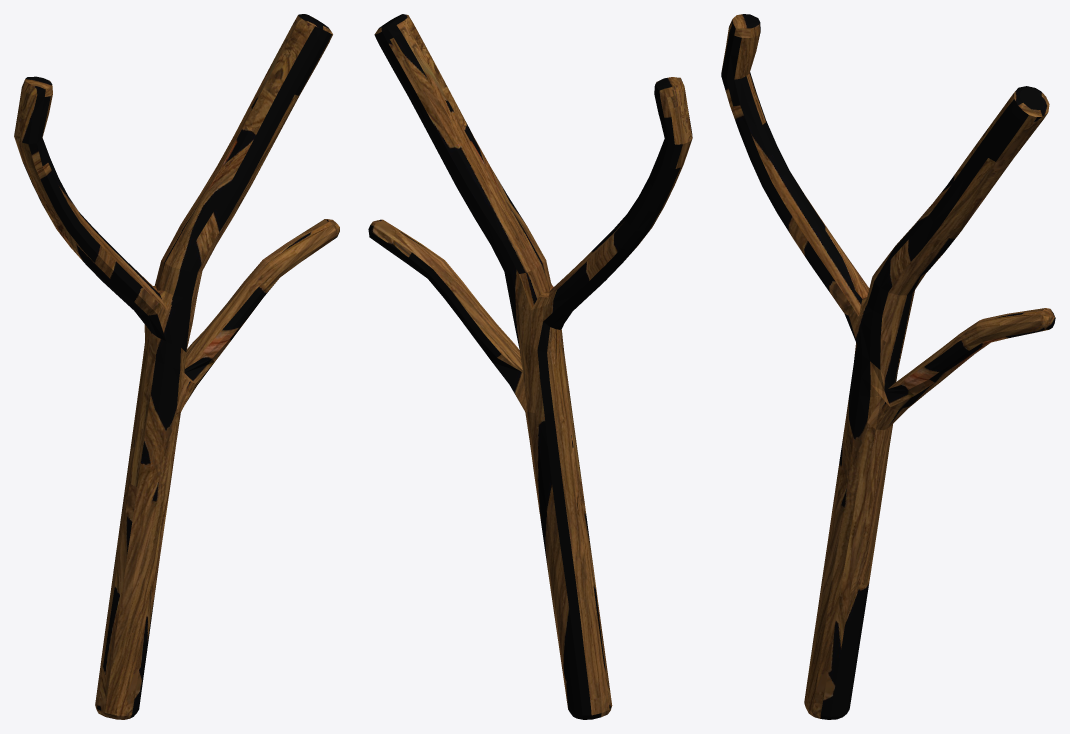
File: stick 2.obj
3 renders of one model, left to right at view 1: azimuth 30°, elevation 25°; view 2: azimuth 150°, elevation 25°; view 3: azimuth 330°, elevation 25°, orthographic. The views are drawn at different scales.
Parts seen in each view (by area): view 1: tripo_node_1813e839-89a3-4f29-8d8c-2678e2fb3daa; view 2: tripo_node_1813e839-89a3-4f29-8d8c-2678e2fb3daa; view 3: tripo_node_1813e839-89a3-4f29-8d8c-2678e2fb3daa.
Boxes of the visible parts, x1=… form: tripo_node_1813e839-89a3-4f29-8d8c-2678e2fb3daa: x1=14, y1=14, x2=339, y2=719; tripo_node_1813e839-89a3-4f29-8d8c-2678e2fb3daa: x1=368, y1=14, x2=692, y2=719; tripo_node_1813e839-89a3-4f29-8d8c-2678e2fb3daa: x1=721, y1=14, x2=1055, y2=719.
Size of the model in its own units: 0.5113 by 0.9979 by 0.0614.
